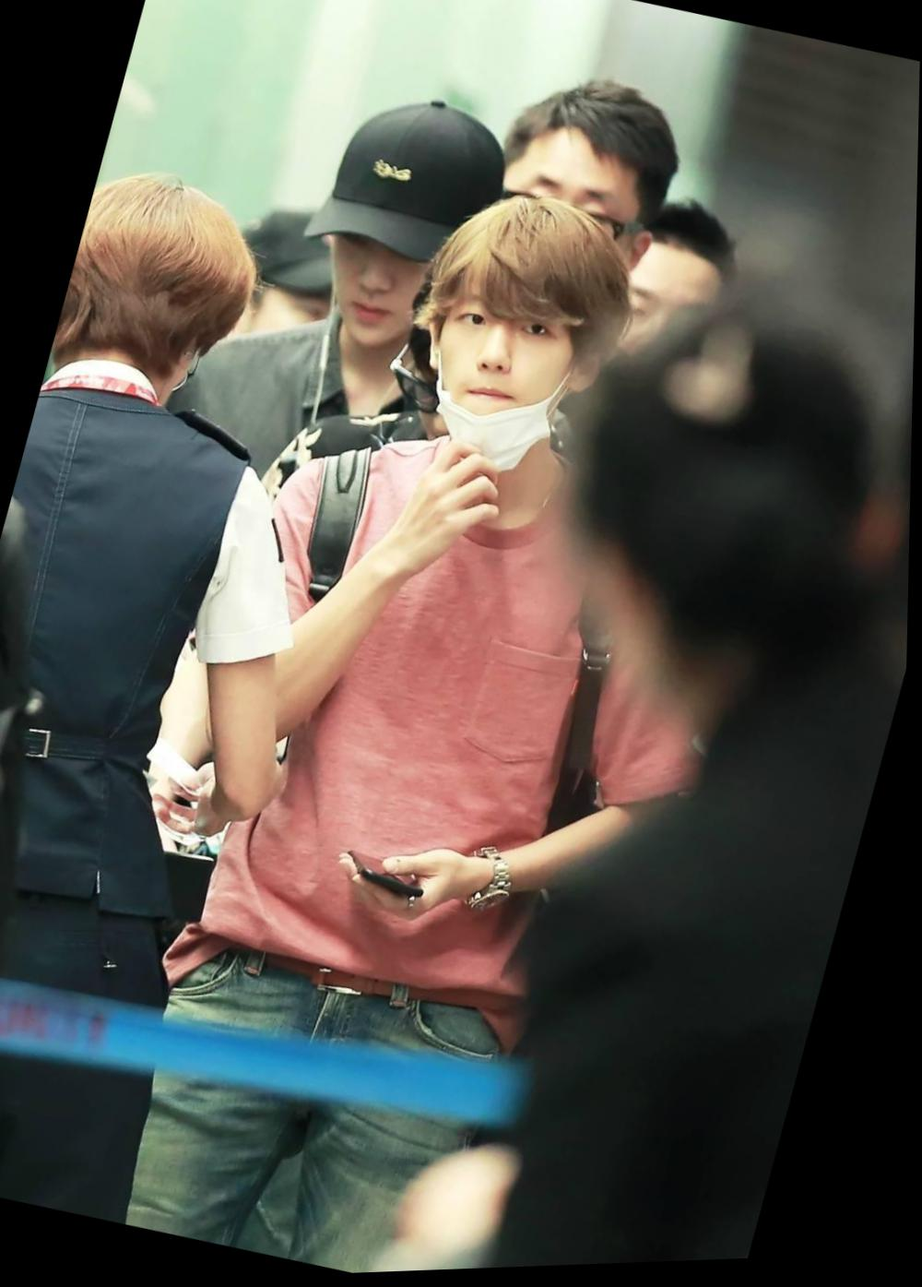NONE: (299, 203, 466, 367)
WRONG: (408, 258, 638, 492)
